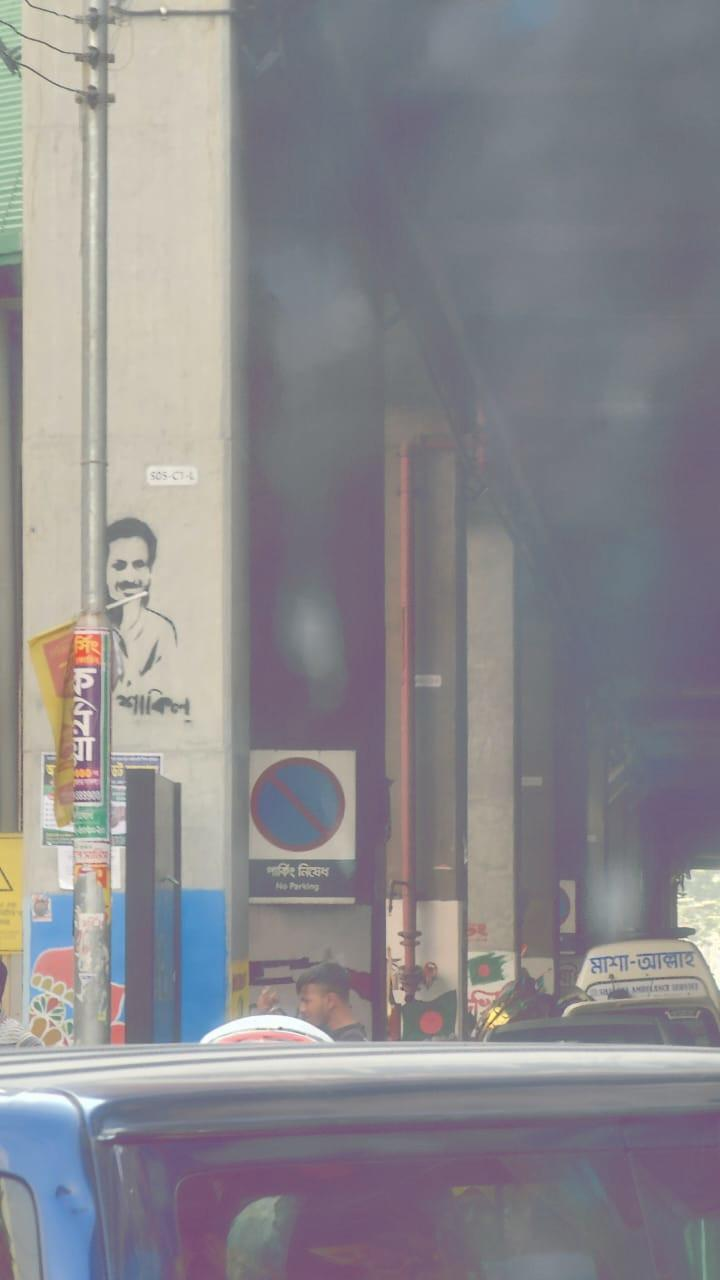No Parking: (248, 748, 359, 900)
